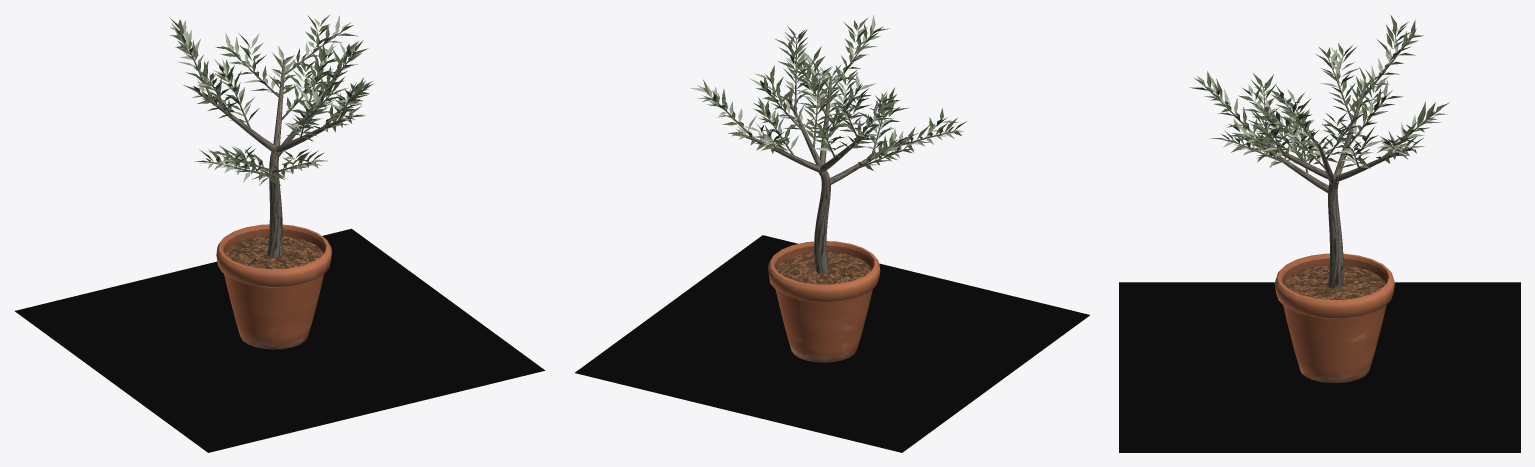
Rendered from olive_tree.glb.
The picture shows the model from 3 angles, left to right: view 1: azimuth 30°, elevation 25°; view 2: azimuth 150°, elevation 25°; view 3: azimuth 270°, elevation 25°; orthographic projection. The views are drawn at different scales.
Visible parts, largest first — view 1: olive_tree_Shadow, olive_tree_LOD0; view 2: olive_tree_Shadow, olive_tree_LOD0; view 3: olive_tree_Shadow, olive_tree_LOD0.
Part boxes in pixels (box(x1,y1,x2,y2)): olive_tree_Shadow: box(15, 228, 544, 452); olive_tree_LOD0: box(170, 15, 373, 349); olive_tree_Shadow: box(575, 235, 1089, 452); olive_tree_LOD0: box(690, 15, 966, 362); olive_tree_Shadow: box(1119, 282, 1520, 452); olive_tree_LOD0: box(1189, 14, 1449, 382).
Size of what is drawn, in the model's own units: 1.73 by 1.5 by 1.72.
Materials: 3 (3 with a texture image).
